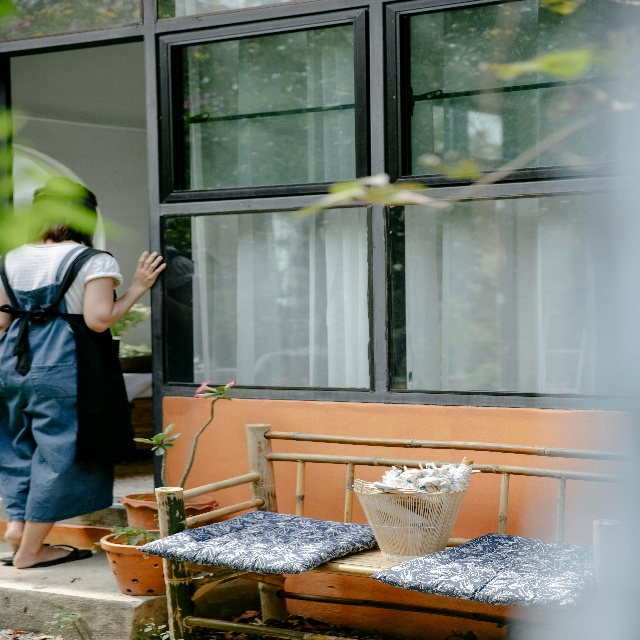Sin_guantes: (133, 250, 166, 291)
